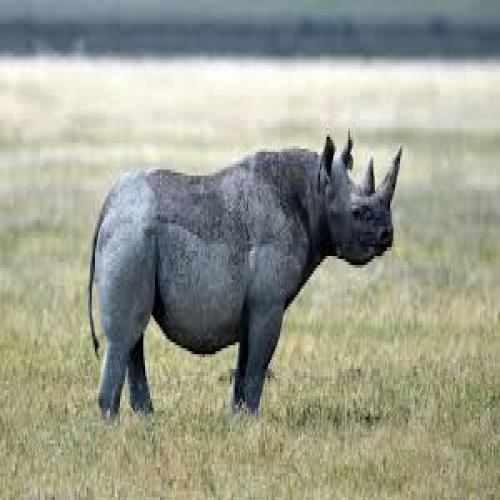rhino-endangered: (92, 132, 397, 399)
